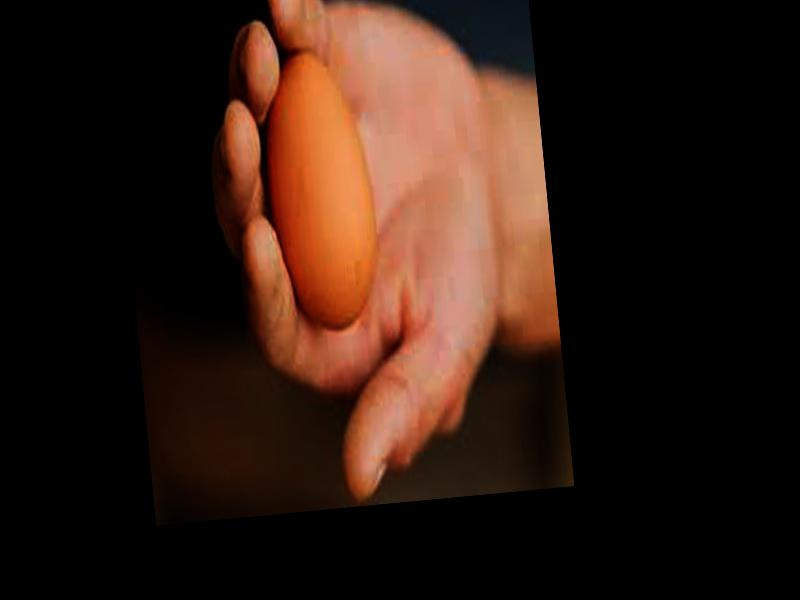Eggs: (258, 45, 383, 331)
